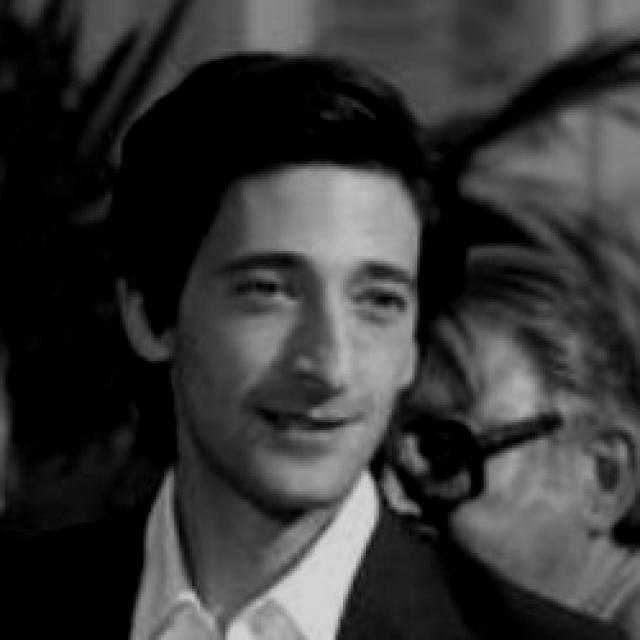real: (170, 164, 418, 514), (206, 259, 411, 327)
